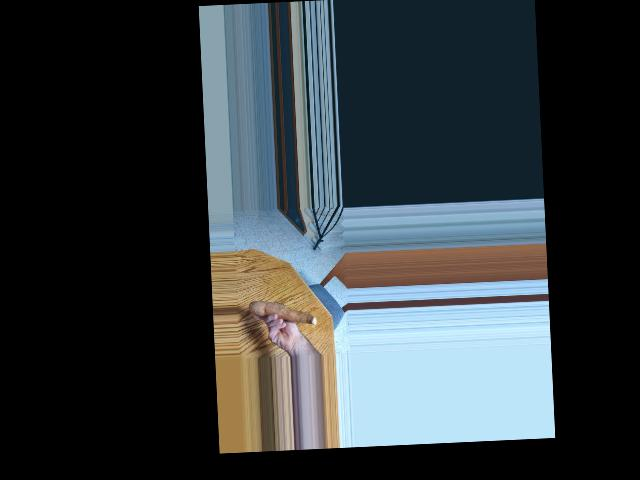sweet_potato: (250, 295, 318, 328)
